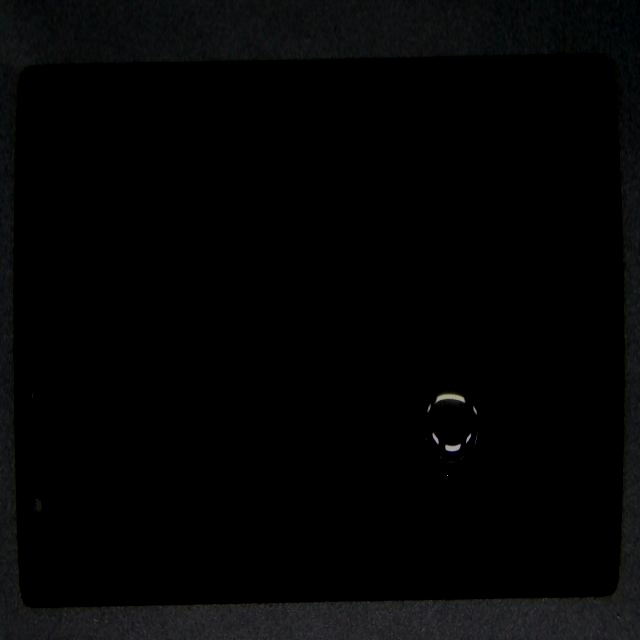oil: (248, 180, 640, 583)
